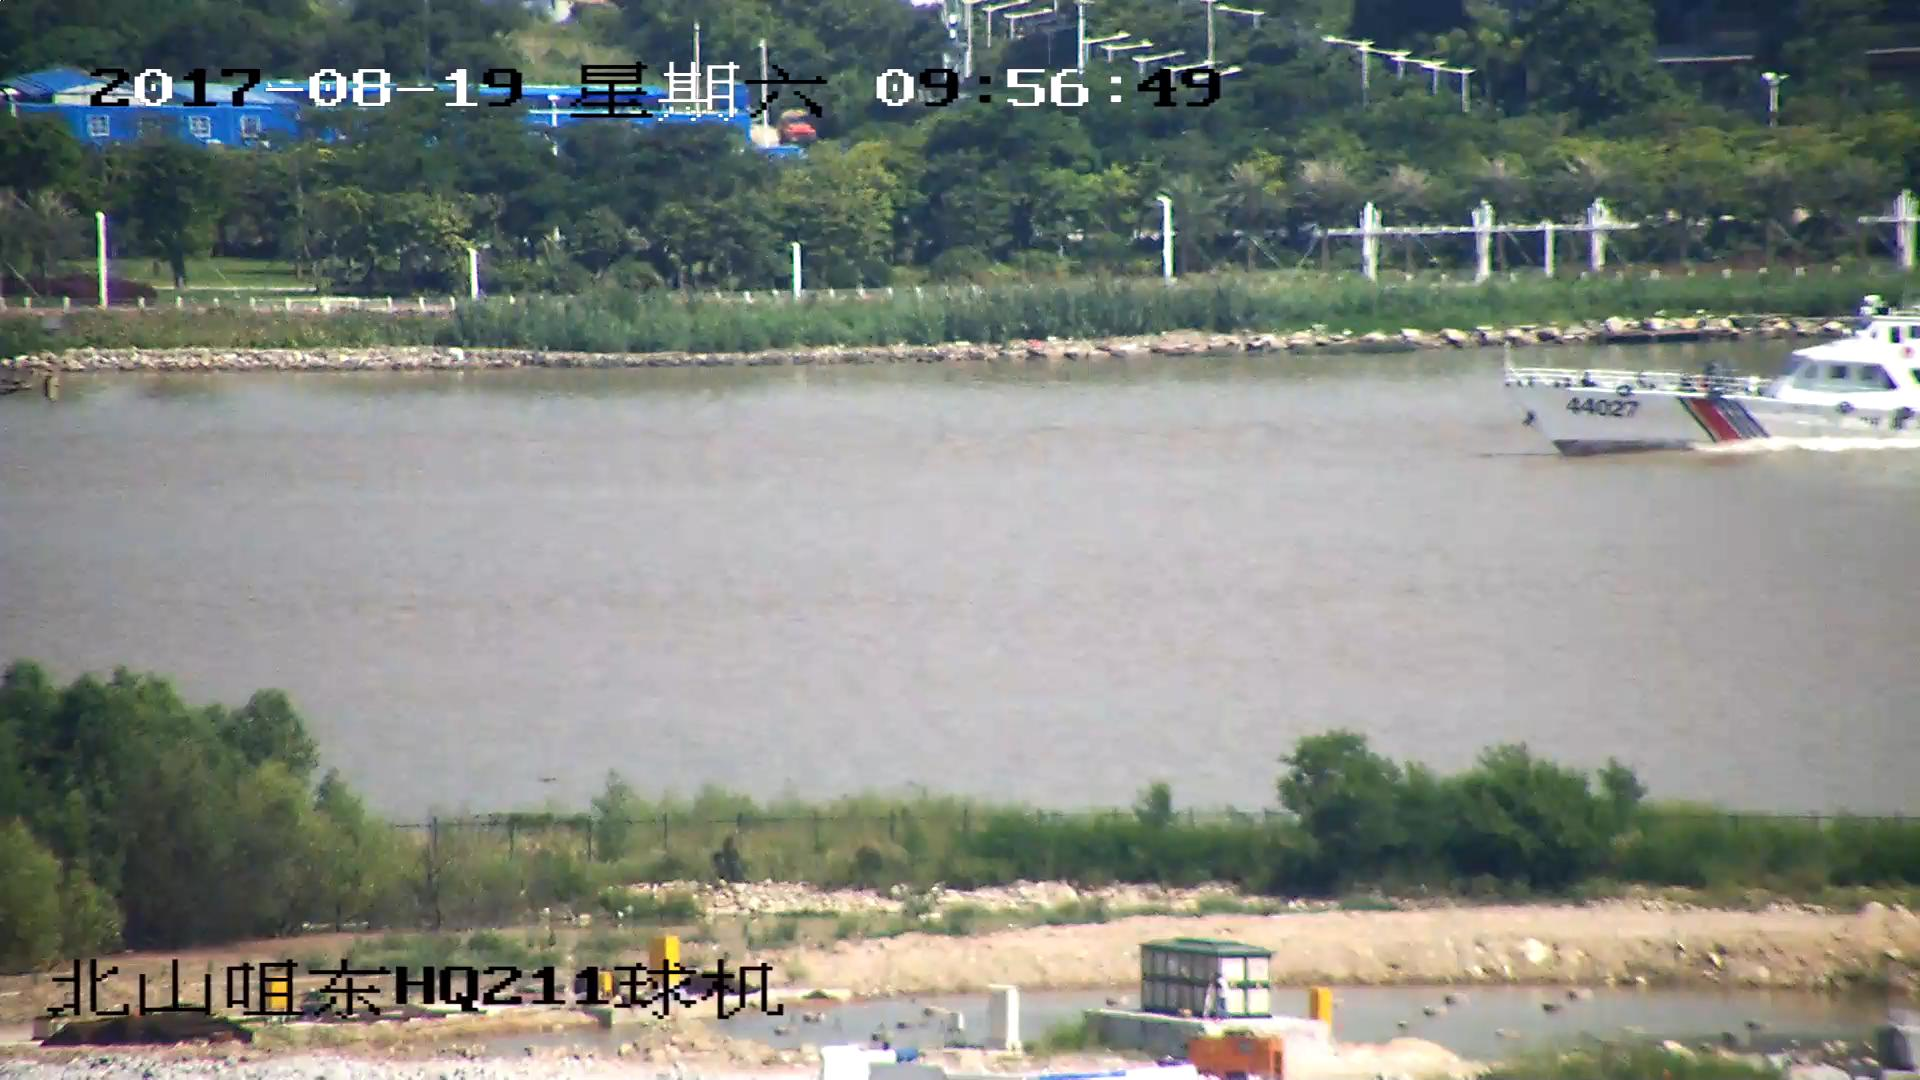passenger ship: (1502, 312, 1920, 448)
